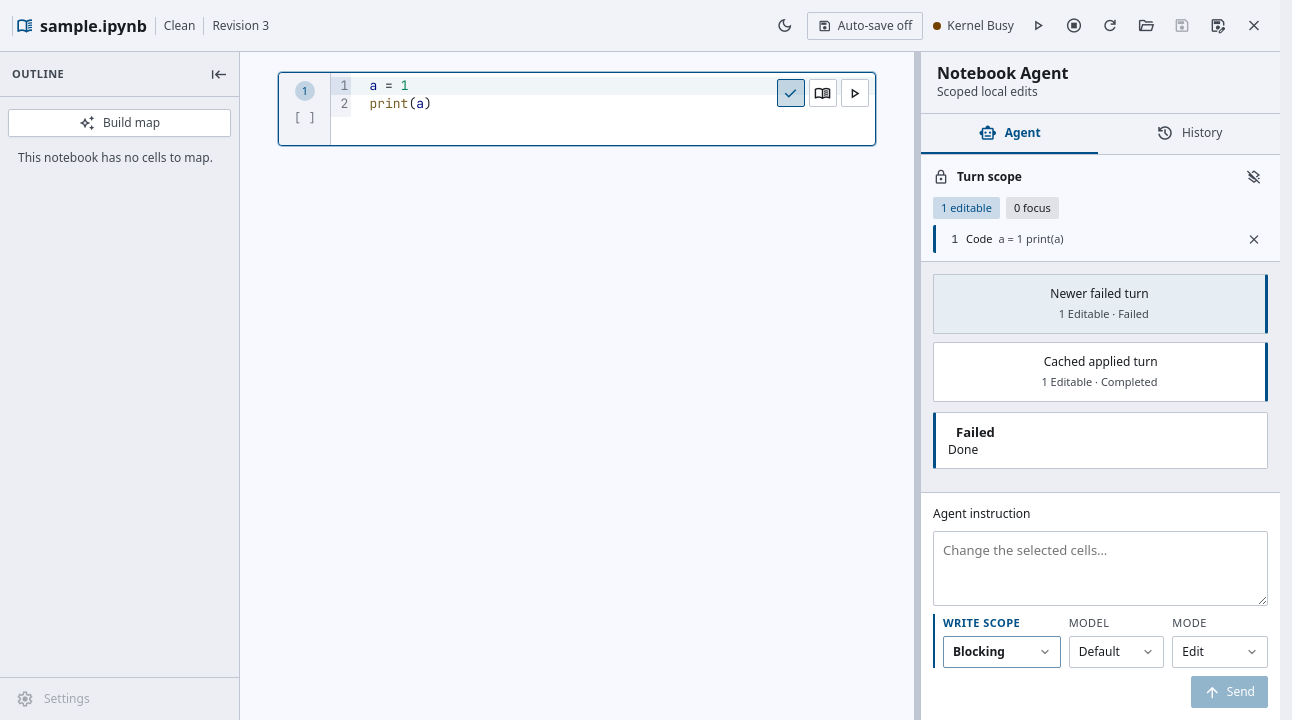
Test: remediation behaviors › rehydrates eligibility before allowing undo for cached truncated history
Click the text "Cached applied turn".
click(1101, 362)  # box [1044, 353, 1158, 371]
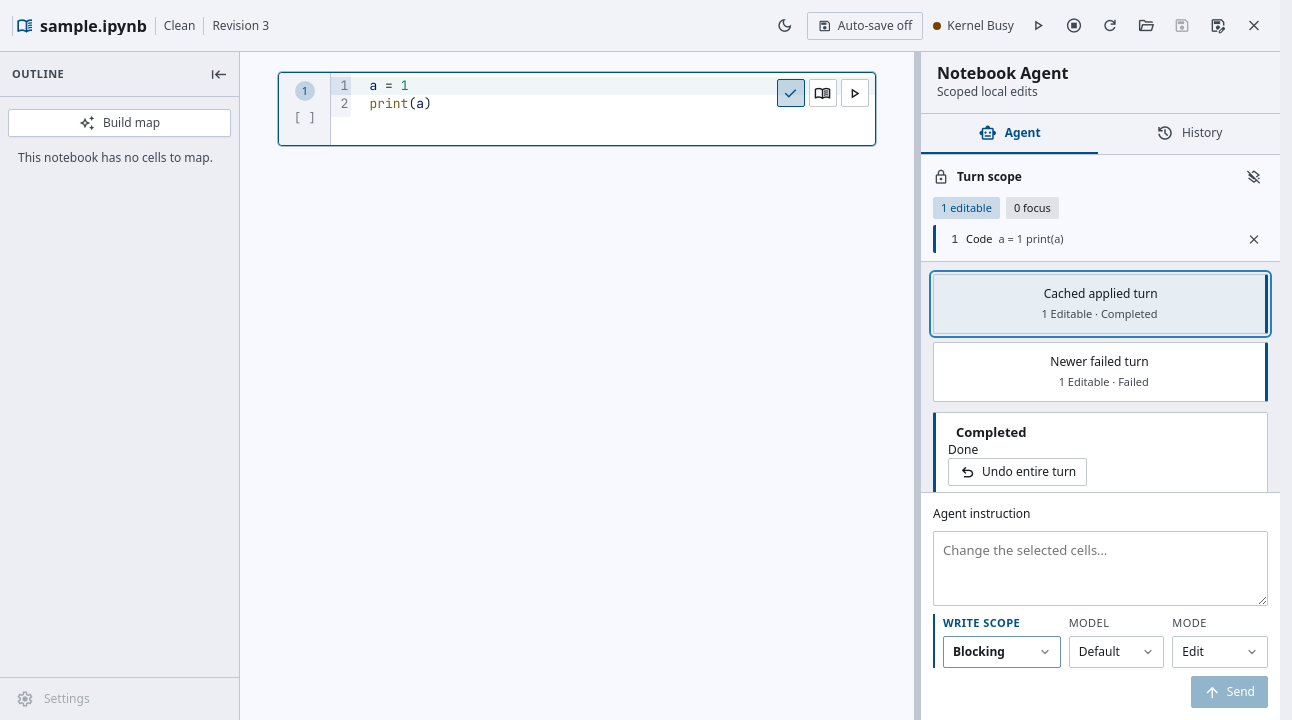
Now the button "Undo entire turn" is enabled, box [948, 458, 1087, 486]
